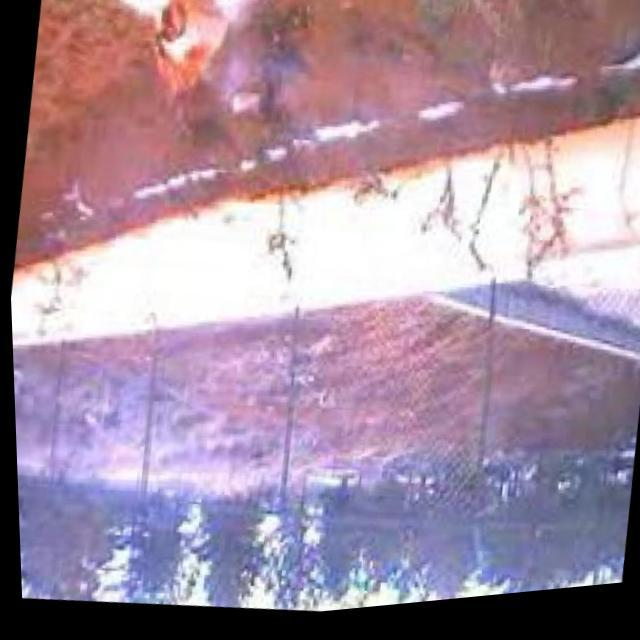fire: (137, 0, 238, 124)
